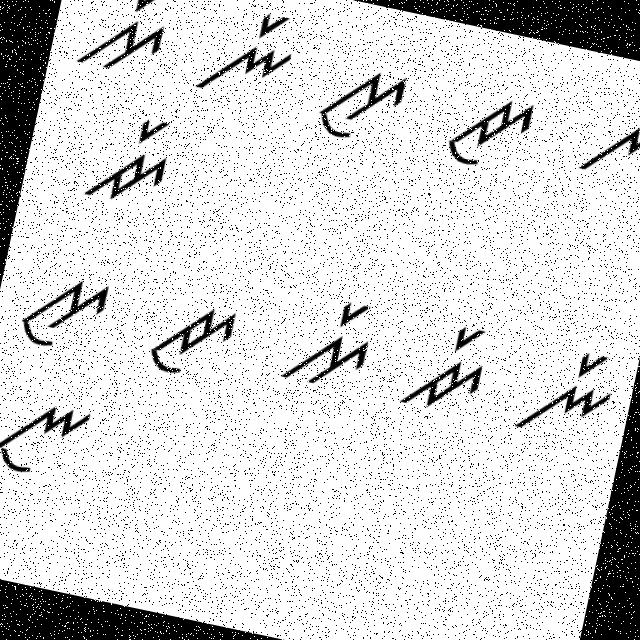jar: (389, 312, 499, 428), (78, 104, 180, 219)
jaw: (430, 77, 540, 186), (137, 288, 251, 393)
nya: (572, 97, 639, 198)
nyar: (501, 326, 629, 452), (193, 0, 305, 110)
nyaw: (0, 386, 99, 494)
sar: (264, 282, 387, 405), (68, 0, 179, 86)
saw: (12, 250, 118, 364), (302, 52, 412, 154)
